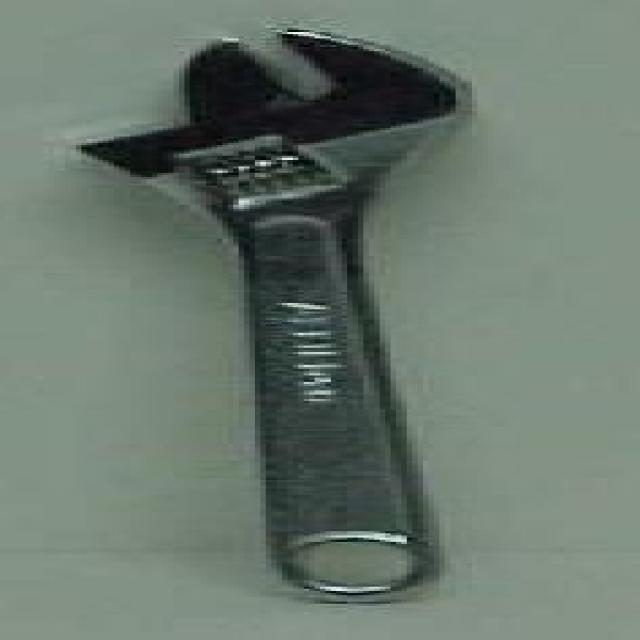wrench: (59, 22, 487, 605)
